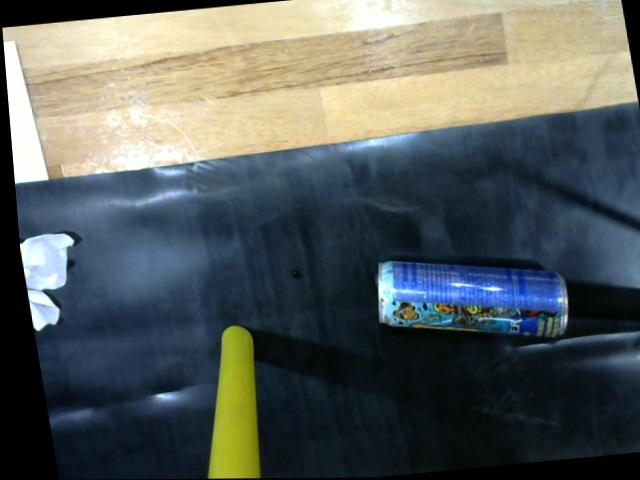can: (366, 251, 570, 346)
